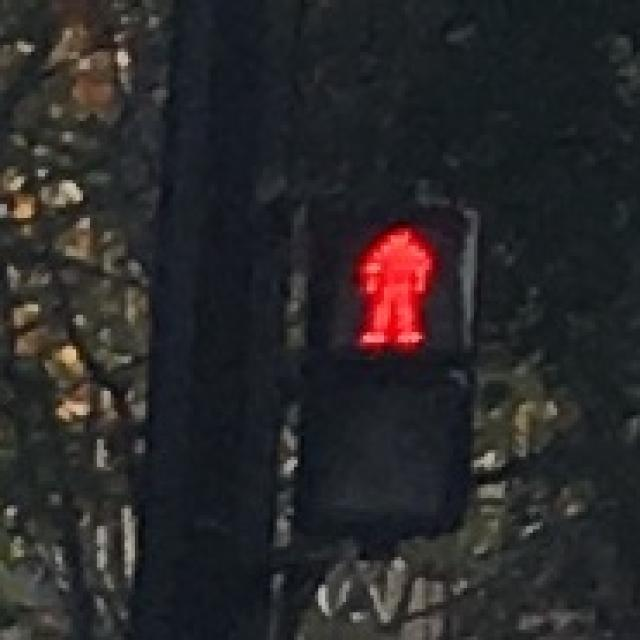red_light: (322, 201, 460, 356)
